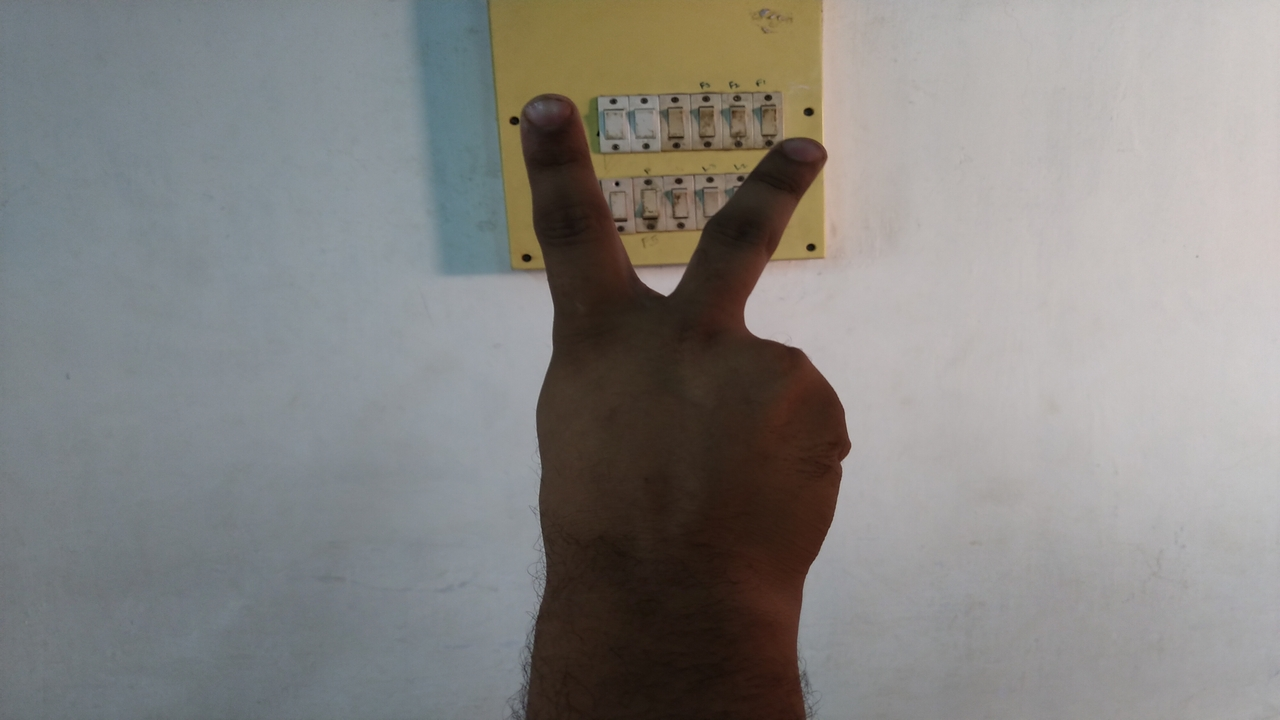fingertip: (770, 124, 828, 186), (516, 94, 584, 146)
